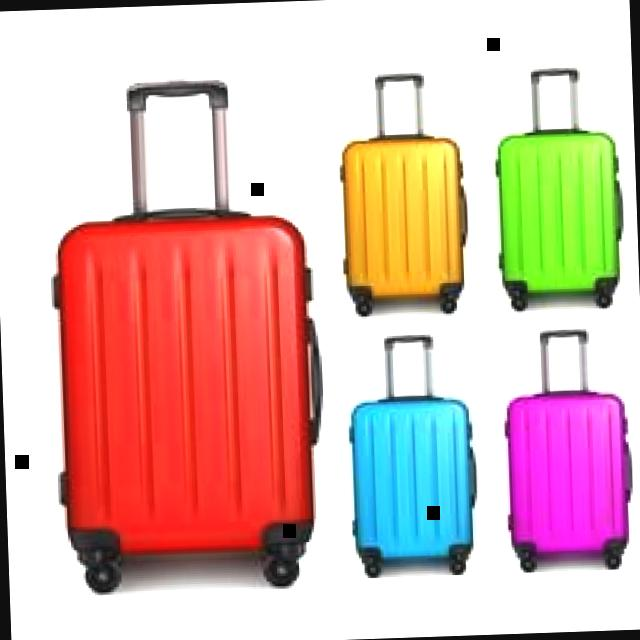luggage: (40, 198, 332, 571), (330, 124, 477, 307), (494, 382, 640, 564), (488, 121, 630, 306), (342, 388, 482, 572)
